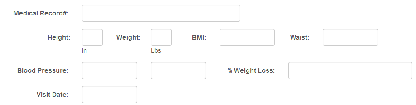textbox: (81, 3, 241, 24), (286, 60, 414, 81), (321, 27, 380, 48), (80, 60, 139, 81), (150, 60, 207, 81), (81, 84, 139, 104), (219, 28, 277, 47), (148, 28, 173, 47), (81, 28, 104, 46)
